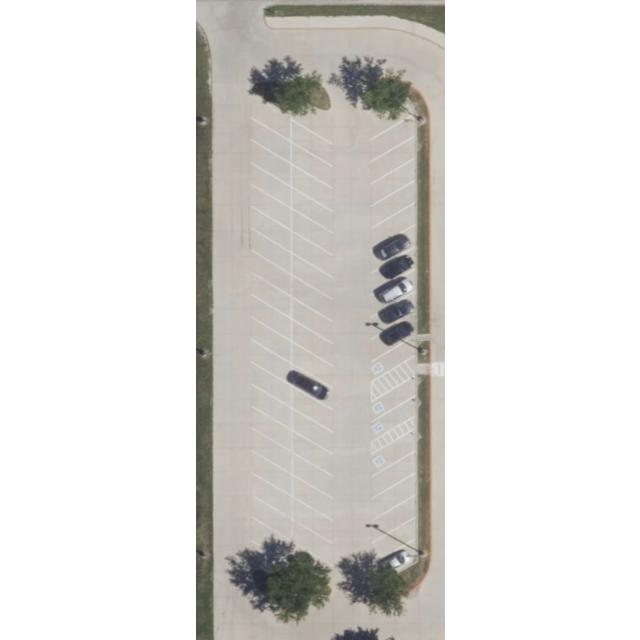Empty: (370, 473, 415, 522), (370, 180, 415, 228), (371, 495, 416, 543), (370, 202, 414, 251), (370, 114, 414, 162), (370, 136, 414, 184), (371, 451, 415, 499), (371, 395, 415, 442), (371, 429, 415, 476), (370, 159, 414, 206), (370, 376, 414, 422), (291, 496, 333, 544), (371, 336, 414, 382), (250, 428, 292, 474), (249, 517, 291, 563), (291, 475, 333, 521), (290, 141, 331, 188), (290, 164, 331, 211), (290, 231, 331, 278), (250, 228, 291, 275), (250, 317, 291, 364), (291, 385, 332, 432), (291, 319, 332, 366), (373, 518, 415, 563), (250, 185, 291, 231), (290, 209, 331, 255), (250, 207, 291, 253), (290, 253, 331, 299), (250, 251, 291, 297), (250, 340, 291, 386), (291, 430, 332, 476), (291, 452, 332, 498), (291, 519, 332, 565), (250, 140, 290, 187), (251, 273, 291, 320), (251, 294, 291, 341), (250, 362, 291, 407), (250, 385, 291, 430), (250, 406, 291, 451), (291, 408, 332, 453), (250, 118, 290, 164), (290, 120, 330, 166), (291, 297, 331, 343), (290, 188, 331, 232), (291, 275, 331, 320), (251, 451, 291, 496), (251, 473, 291, 518), (291, 342, 331, 387), (251, 497, 291, 541), (251, 163, 290, 208)
Parked: (370, 225, 415, 273), (371, 291, 416, 339), (371, 312, 415, 361), (371, 269, 415, 317), (371, 247, 415, 294), (291, 364, 332, 411), (378, 539, 415, 582)
